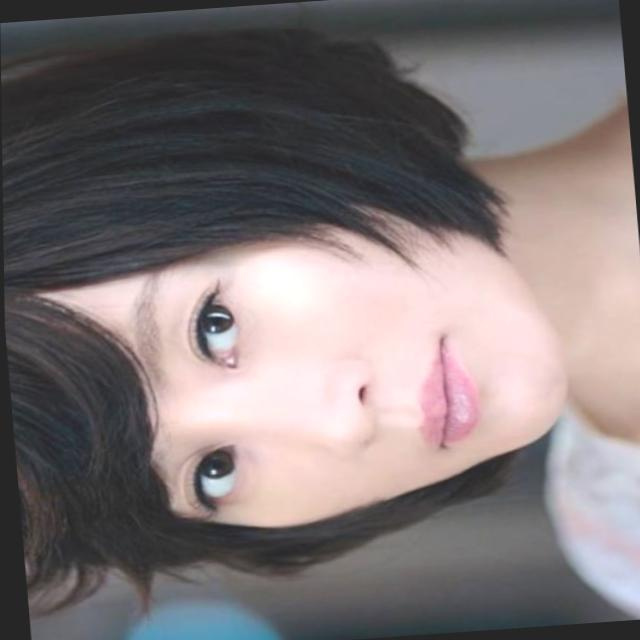face: (56, 189, 587, 544)
